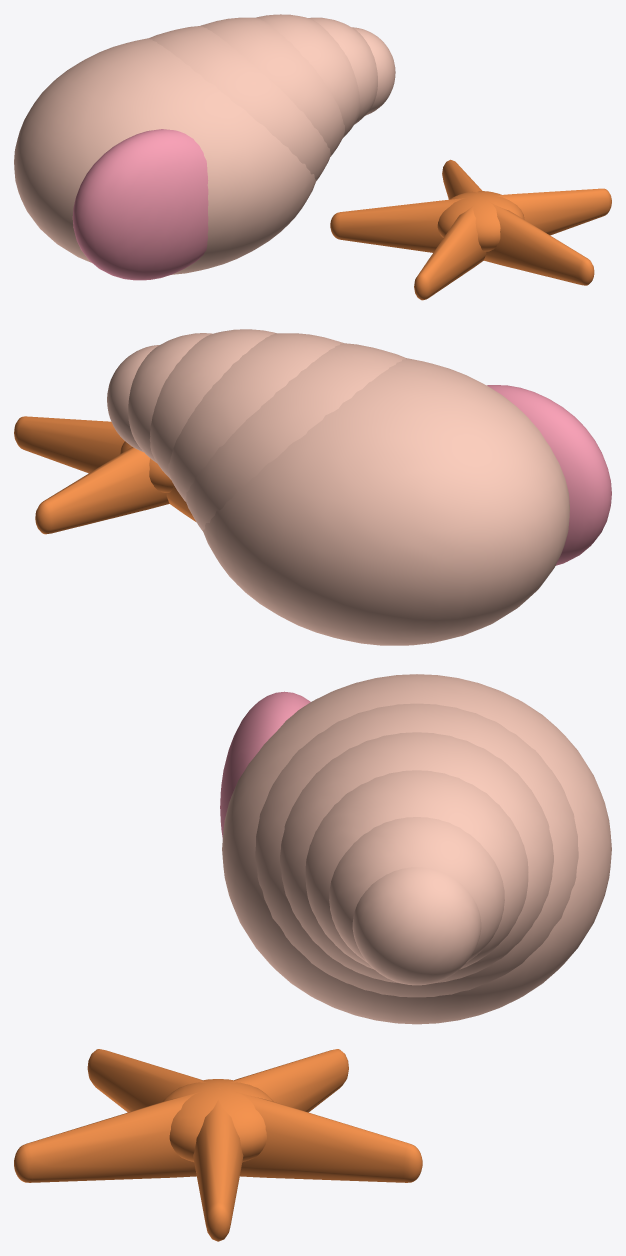
File: deco_concha.glb
The picture shows the model from 3 angles, top to bottom: view 1: azimuth 30°, elevation 25°; view 2: azimuth 150°, elevation 25°; view 3: azimuth 270°, elevation 25°; orthographic projection. The views are drawn at different scales.
Visible parts, largest first — view 1: vuelta caracola 0.001, boca caracola.001, vuelta caracola 1.001, vuelta caracola 2.001, brazo estrella 2.001, brazo estrella 4.001, vuelta caracola 3.001, brazo estrella 0.001, brazo estrella 3.001, centro estrella.001, vuelta caracola 4.001, vuelta caracola 5.001 (+1 smaller); view 2: vuelta caracola 0.001, vuelta caracola 1.001, vuelta caracola 2.001, boca caracola.001, brazo estrella 1.001, vuelta caracola 3.001, brazo estrella 0.001, vuelta caracola 4.001, vuelta caracola 5.001, centro estrella.001; view 3: vuelta caracola 0.001, vuelta caracola 1.001, vuelta caracola 2.001, vuelta caracola 3.001, vuelta caracola 5.001, vuelta caracola 4.001, brazo estrella 1.001, brazo estrella 4.001, centro estrella.001, brazo estrella 0.001, brazo estrella 2.001, brazo estrella 3.001 (+1 smaller).
Part boxes in pixels (box(x1,y1,x2,y2)): vuelta caracola 0.001: box(14, 38, 316, 274); boca caracola.001: box(72, 129, 208, 280); vuelta caracola 1.001: box(149, 26, 330, 180); vuelta caracola 2.001: box(200, 17, 344, 156); brazo estrella 2.001: box(330, 197, 482, 252); brazo estrella 4.001: box(478, 196, 594, 285); vuelta caracola 3.001: box(256, 14, 360, 137); brazo estrella 0.001: box(478, 188, 611, 235); brazo estrella 3.001: box(414, 196, 486, 300); centro estrella.001: box(437, 191, 524, 251); vuelta caracola 4.001: box(308, 17, 377, 124); vuelta caracola 5.001: box(352, 27, 395, 115); vuelta caracola 0.001: box(202, 358, 569, 645); vuelta caracola 1.001: box(185, 343, 405, 530); vuelta caracola 2.001: box(168, 333, 343, 501); boca caracola.001: box(487, 385, 611, 565); brazo estrella 1.001: box(35, 447, 169, 534); vuelta caracola 3.001: box(149, 329, 276, 479); brazo estrella 0.001: box(14, 416, 124, 473); vuelta caracola 4.001: box(128, 333, 212, 462); vuelta caracola 5.001: box(107, 345, 159, 452); centro estrella.001: box(120, 441, 173, 492); vuelta caracola 0.001: box(222, 674, 611, 1024); vuelta caracola 1.001: box(255, 703, 578, 997); vuelta caracola 2.001: box(280, 732, 553, 983); vuelta caracola 3.001: box(305, 770, 528, 969); vuelta caracola 5.001: box(352, 867, 481, 985); vuelta caracola 4.001: box(329, 817, 504, 962); brazo estrella 1.001: box(214, 1087, 422, 1182); brazo estrella 4.001: box(14, 1087, 221, 1182); centro estrella.001: box(163, 1079, 273, 1162); brazo estrella 0.001: box(193, 1086, 243, 1241); brazo estrella 2.001: box(216, 1049, 348, 1112); brazo estrella 3.001: box(87, 1049, 220, 1112).
Bounding box in the file's own units: 0.2536 × 0.1041 × 0.1806.
